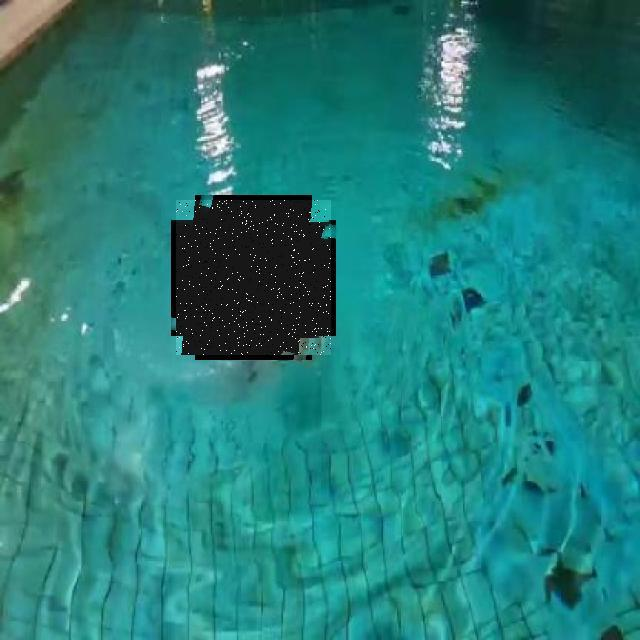Out of Water: (176, 200, 331, 355)
